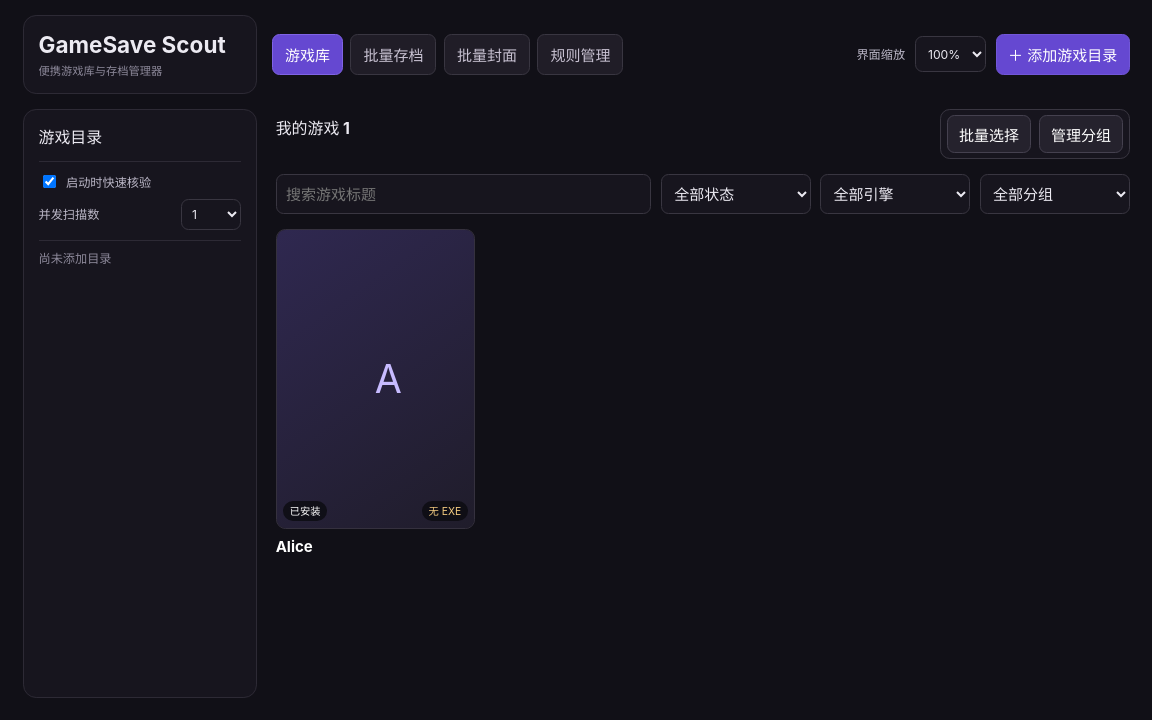
Scenario: App › keeps batch selection and group management as independent actions in one visual group
expect the button with test id "nav-covers" reads "批量封面": met, box [444,34,530,75]
Click the button with test id "enter-batch-mode" at {"x": 989, "y": 134}, box [947,115,1031,153]
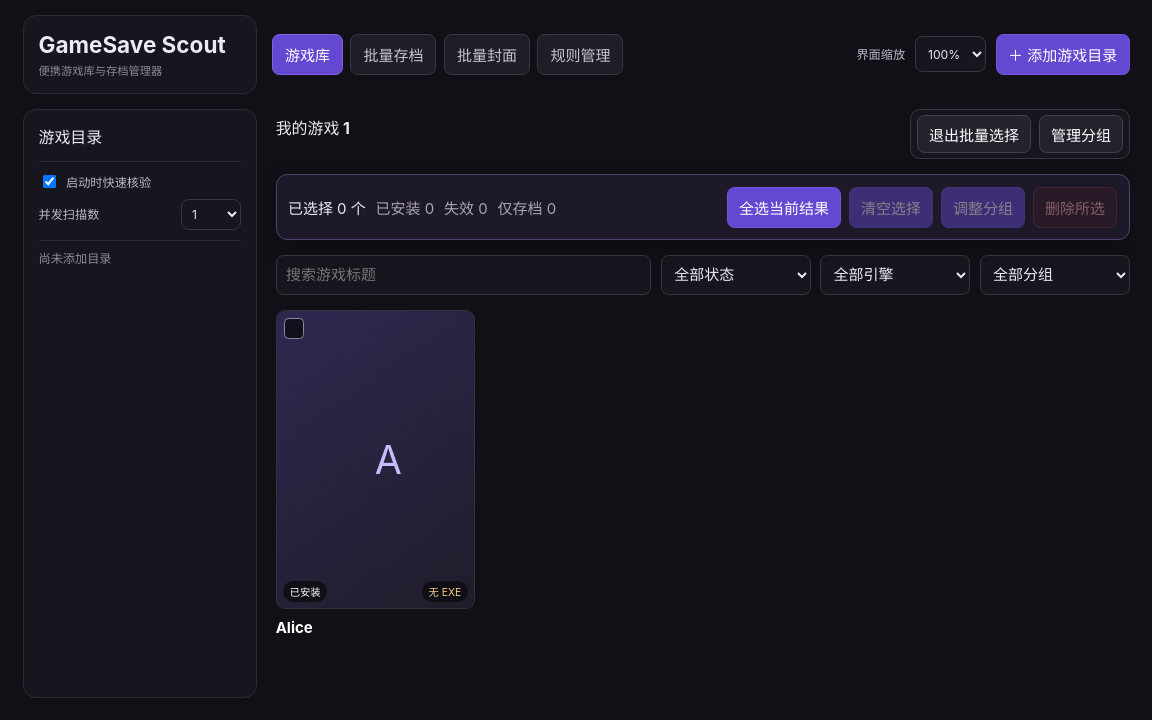
expect the button with test id "enter-batch-mode" reads "退出批量选择": met, box [917,115,1031,153]
